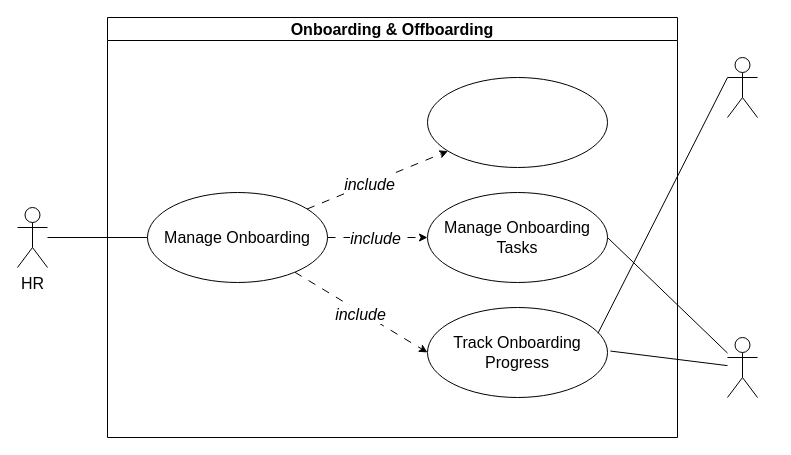
The diagram is 791 pixels wide and 455 high, and some of its shapes have lost their labels. The centre of each missing label's shape, as x and y in pixels:
"Manage Contracts" goes at [517,122].
"Manager" goes at [742,367].
"Staff" goes at [742,87].
